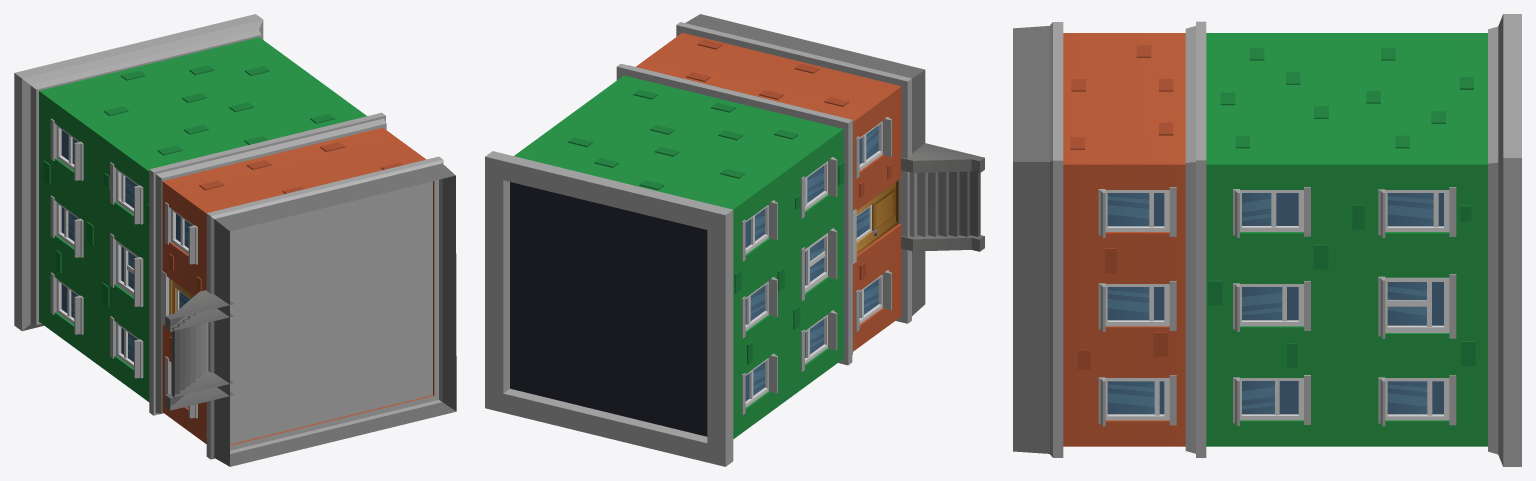
File: Building_2_7_F.fbx
3 renders of one model, left to right at view 1: azimuth 30°, elevation 25°; view 2: azimuth 150°, elevation 25°; view 3: azimuth 270°, elevation 25°, orthographic. The views are drawn at different scales.
Parts seen in each view (by area): view 1: Building_2_7_F; view 2: Building_2_7_F; view 3: Building_2_7_F.
Part boxes in pixels (box(x1,y1,x2,y2)): Building_2_7_F: box(14, 14, 456, 466); Building_2_7_F: box(485, 14, 984, 466); Building_2_7_F: box(1013, 14, 1521, 466).
Bounding box in the file's own units: 754 × 620 × 926.
